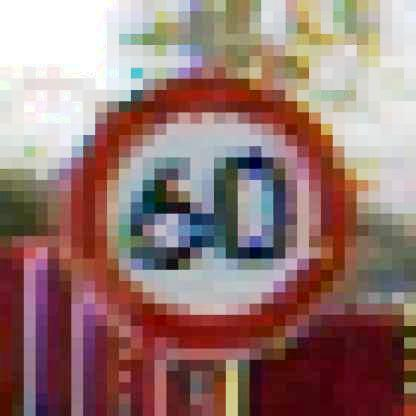Speed Limit -60-: (61, 72, 357, 358)
